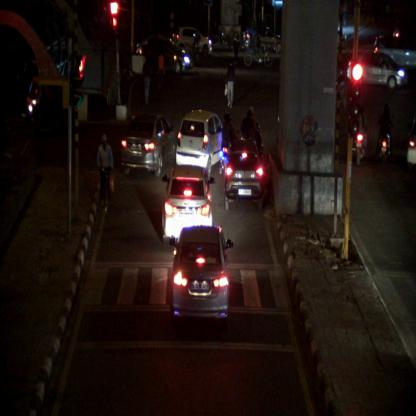car: (169, 226, 233, 319), (119, 117, 178, 176), (162, 166, 204, 241), (176, 108, 223, 173), (222, 140, 264, 211), (347, 54, 409, 88), (138, 37, 192, 76), (176, 27, 204, 56)
motorcycle: (356, 106, 368, 168), (380, 106, 392, 160)
